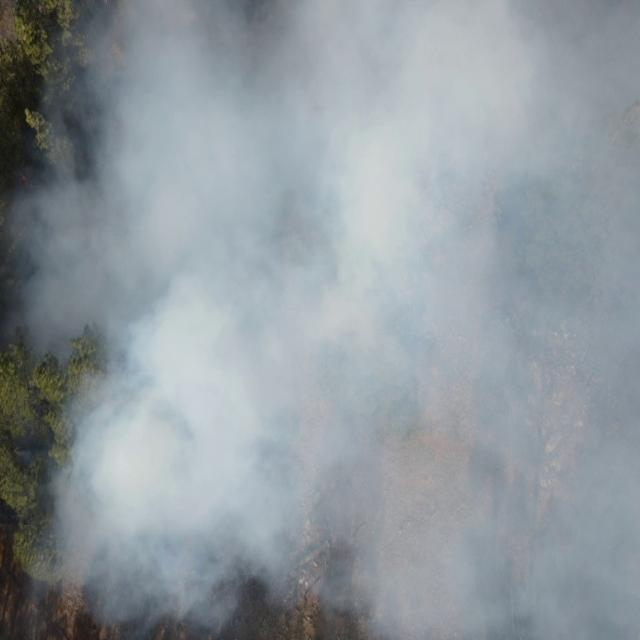smoke: (49, 0, 640, 601), (344, 604, 638, 640), (0, 174, 50, 380), (82, 601, 238, 640), (6, 431, 51, 500)
